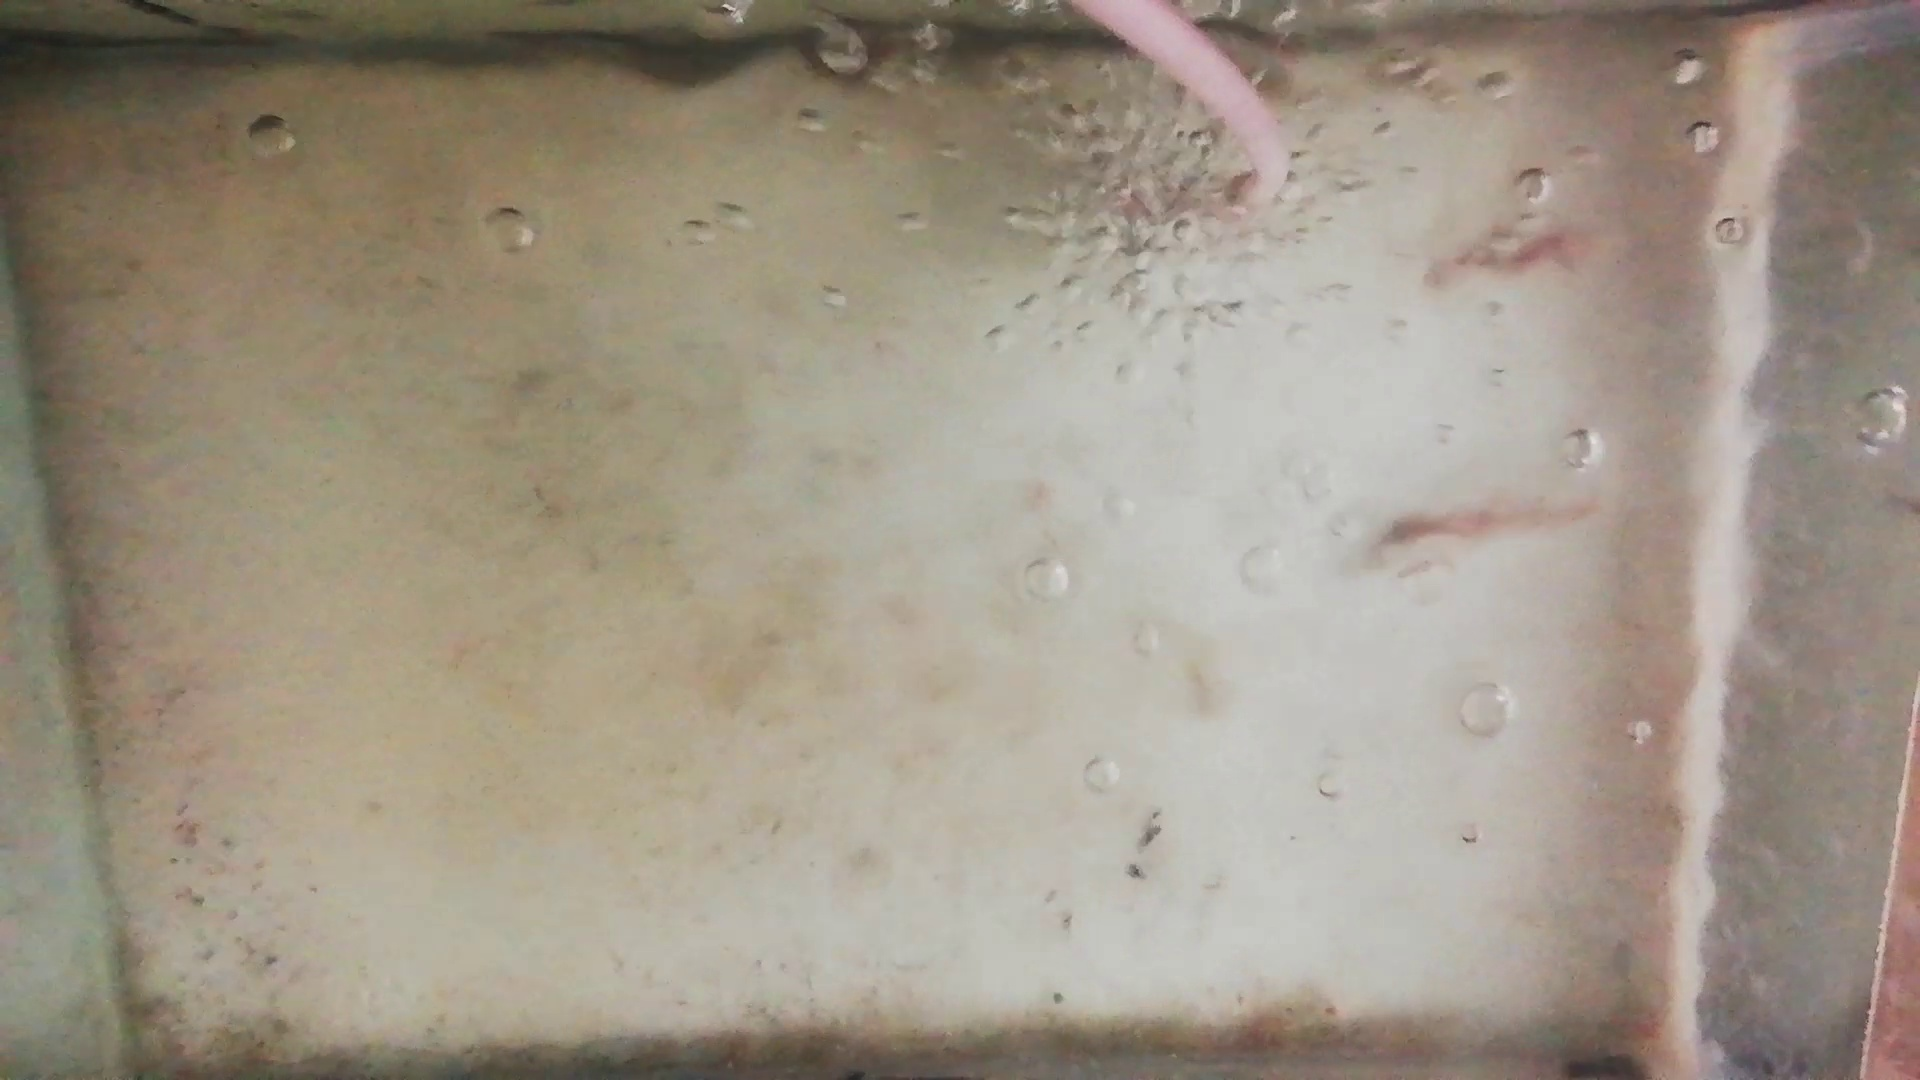fish: (1366, 502, 1598, 551), (1425, 225, 1601, 276)
